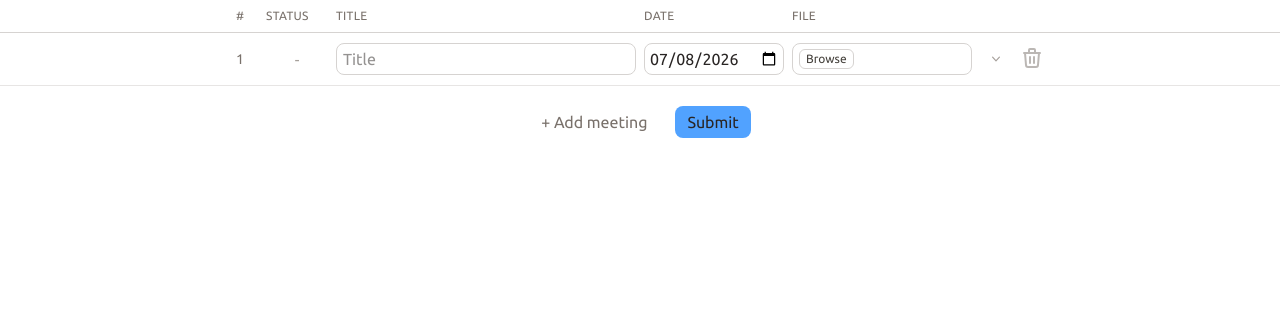
Test: Upload Meeting Form › keeps only failed meetings after partial errors and preserves failed status
This screenshot has width=1280, height=315.
Click the button "+ Add meeting": (594, 122) [529, 106, 660, 138]
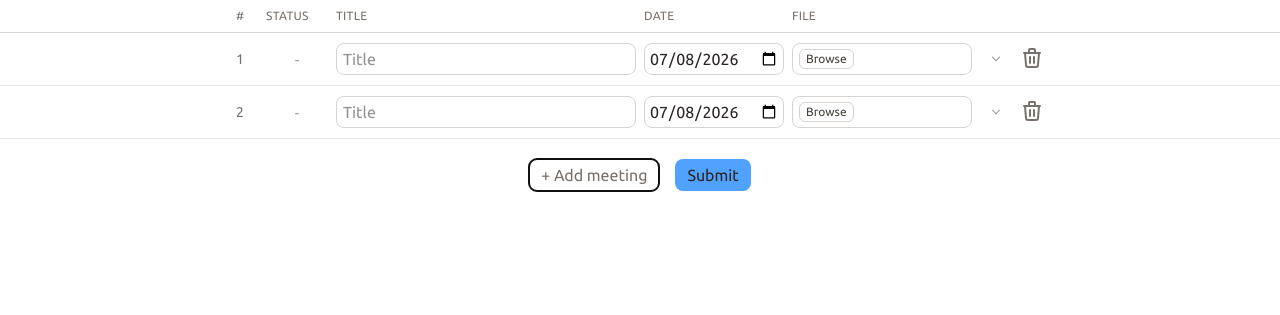
Click the button "+ Add meeting": (594, 175) [529, 159, 660, 191]
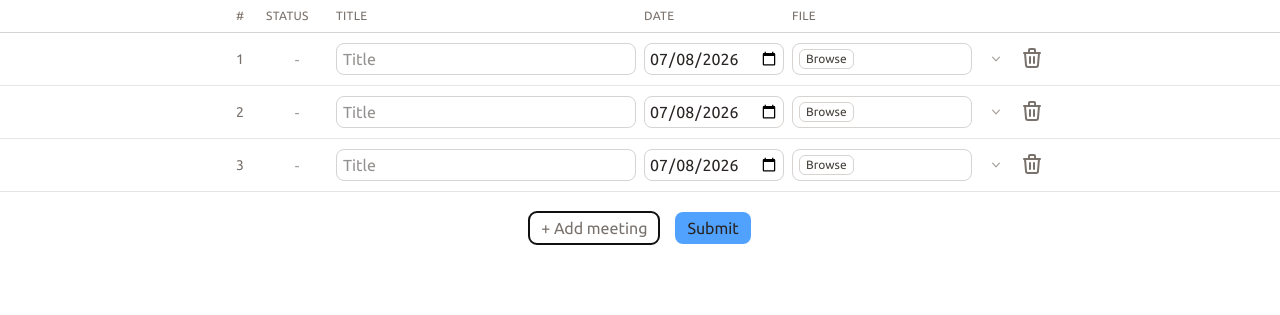
Click the button "+ Add meeting": (594, 228) [529, 212, 660, 244]
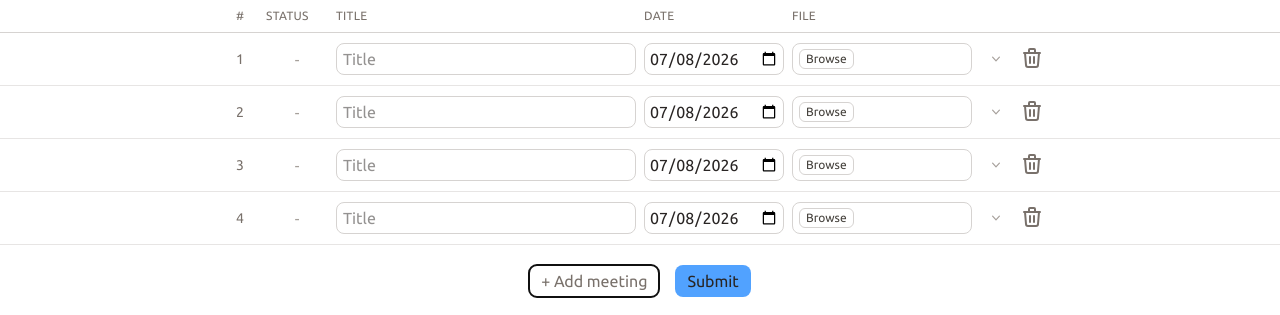
Submit the form
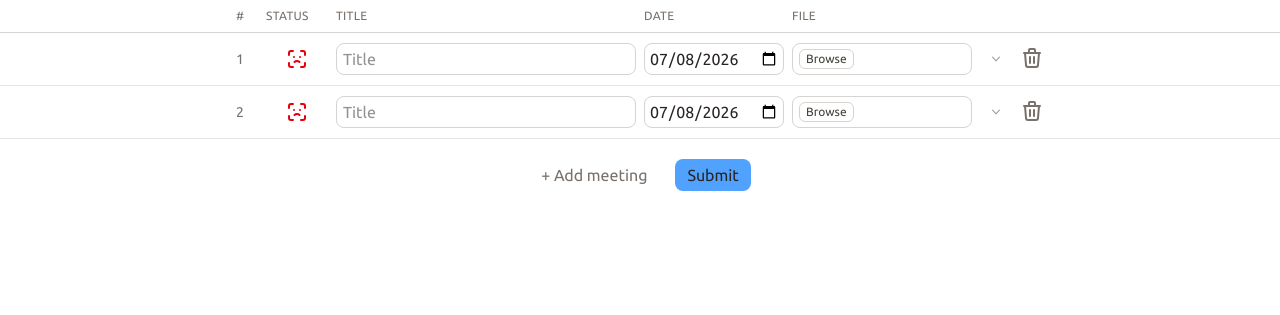
Expected: the number of fields labelled "Title" is 2, [336, 43, 636, 75]; [336, 96, 636, 128]
Now the element named "Meeting 1 status: failed" is shown, box [285, 47, 309, 71]
Now the element named "Meeting 2 status: failed" is shown, box [285, 100, 309, 124]
